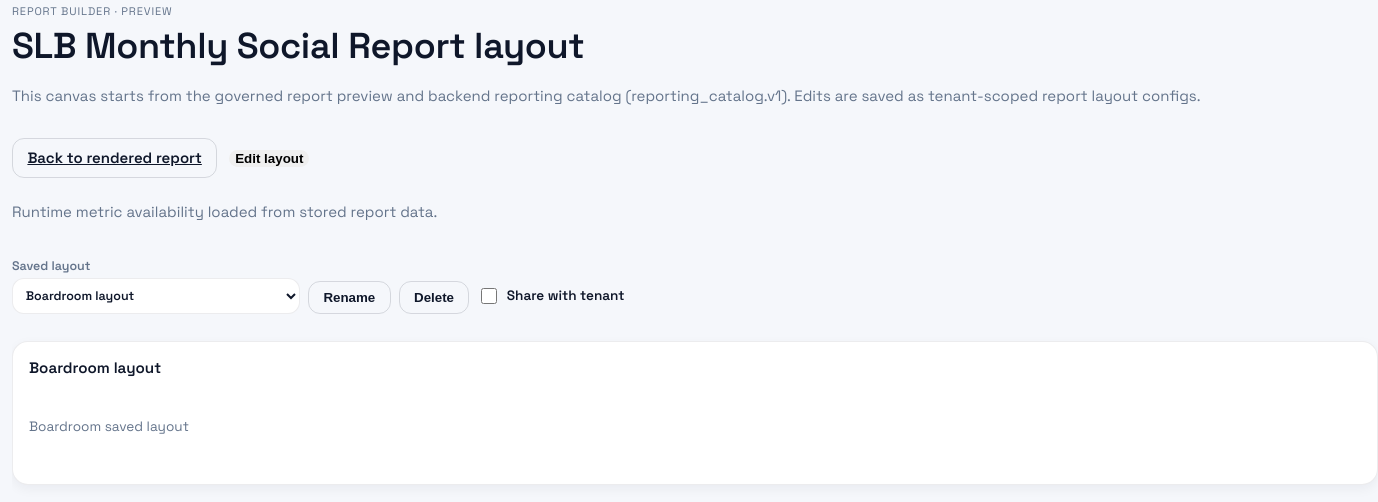
Scenario: ReportLayoutPreview report builder route › lists and switches report-scoped saved layouts
Expected: the text "Boardroom saved layout" is shown, [29,418,189,435]
Select "Compact layout" in the dropdown labelled "Saved layout" at (156, 296), box [12,278,300,314]
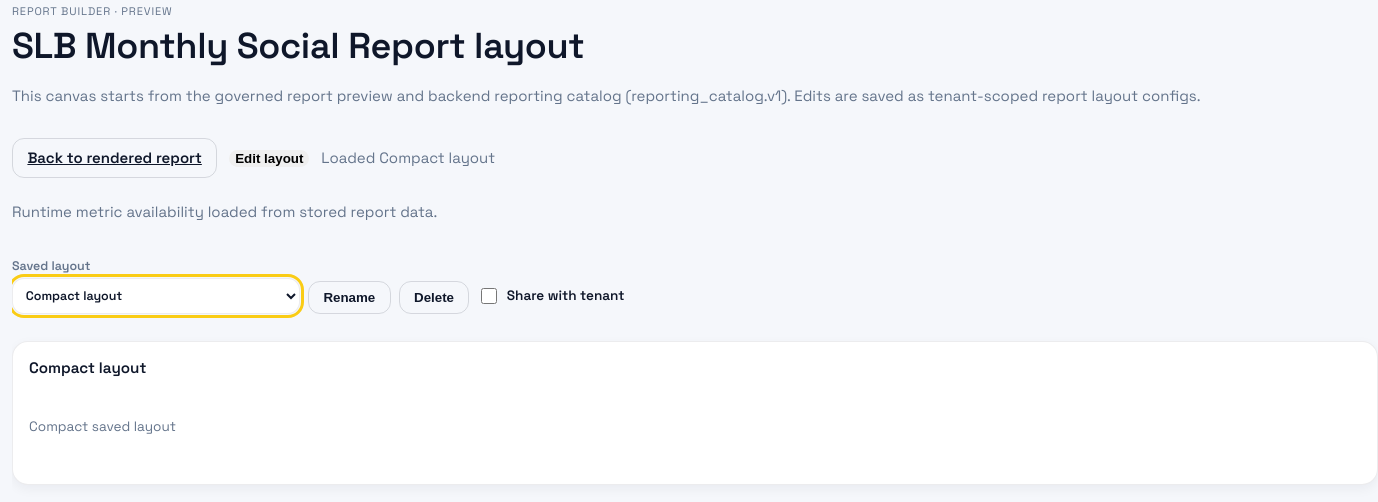
Result: the text "Compact saved layout" is shown at [29,418,176,435]
Result: the text "Loaded Compact layout" is shown at [321,147,495,169]
